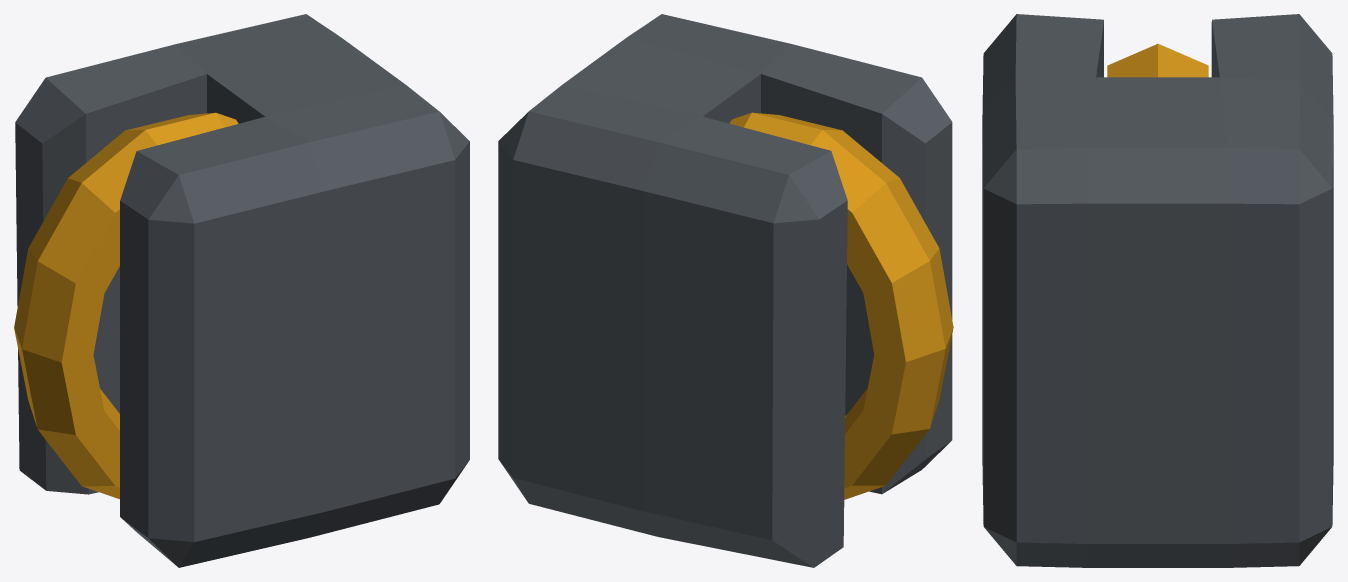
File: Mothership_02_Detail_9_Yellow.fbx
3 views of the same model, side by side, from view 1: azimuth 30°, elevation 25°; view 2: azimuth 150°, elevation 25°; view 3: azimuth 270°, elevation 25° (orthographic). The views are drawn at different scales.
Parts seen in each view (by area): view 1: Mothership_02_Detail_9_Yellow; view 2: Mothership_02_Detail_9_Yellow; view 3: Mothership_02_Detail_9_Yellow.
Boxes of the visible parts, x1=… form: Mothership_02_Detail_9_Yellow: x1=14, y1=14, x2=469, y2=567; Mothership_02_Detail_9_Yellow: x1=498, y1=14, x2=953, y2=567; Mothership_02_Detail_9_Yellow: x1=982, y1=14, x2=1333, y2=567.
Bounding box in the file's own units: 210 × 208 × 158.
1 material, 1 textured.
